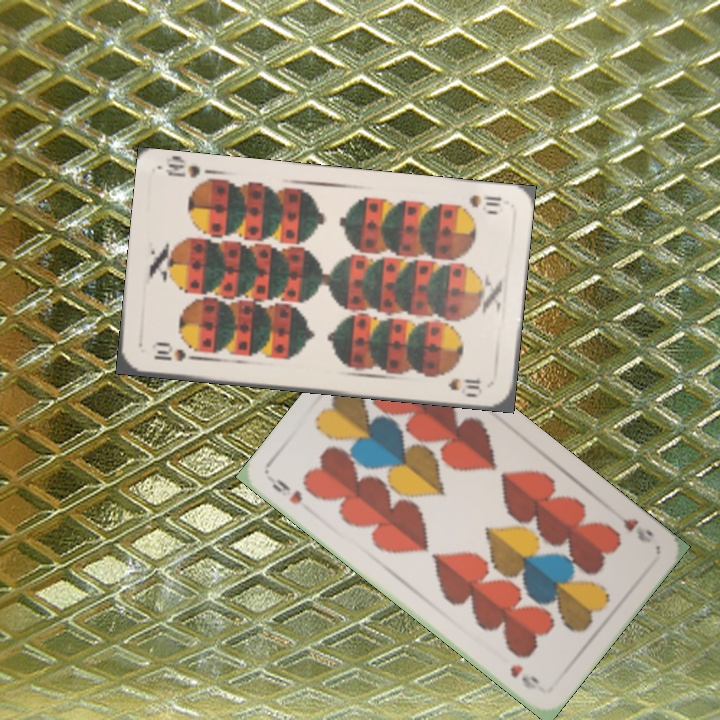H9: (609, 506, 655, 546), (265, 473, 305, 507)
S10: (148, 342, 201, 364), (465, 191, 504, 210)
